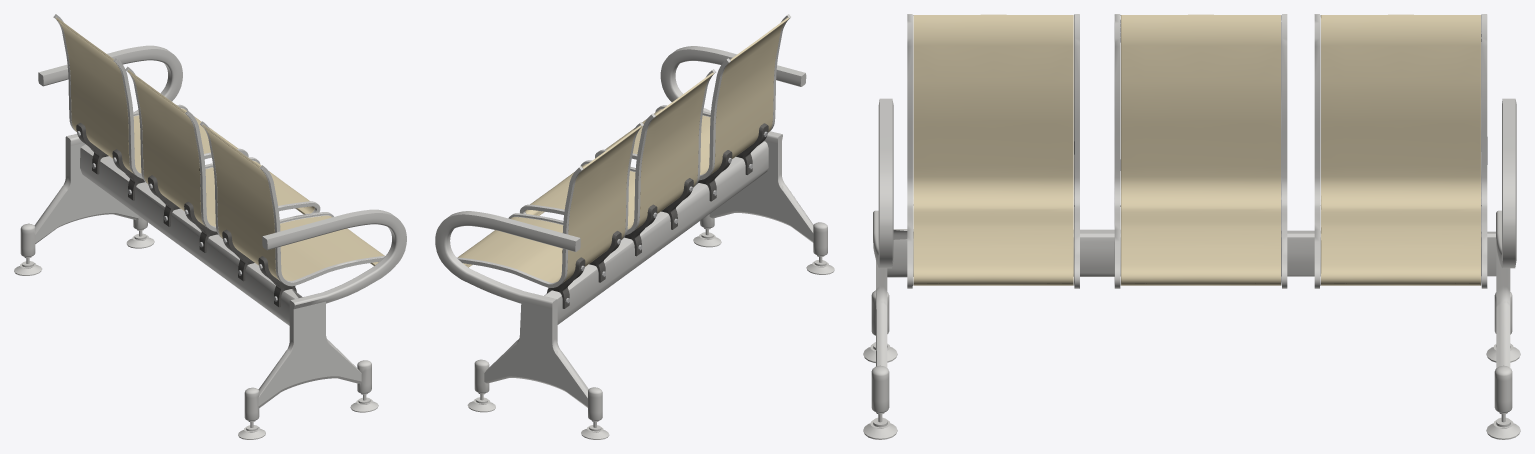
3 renders of one model, left to right at view 1: azimuth 30°, elevation 25°; view 2: azimuth 150°, elevation 25°; view 3: azimuth 270°, elevation 25°, orthographic. The views are drawn at different scales.
Visible parts, largest first — view 1: waiting chair; view 2: waiting chair; view 3: waiting chair.
Boxes of the visible parts, <box> form: waiting chair: <box>14,14,406,439</box>; waiting chair: <box>435,14,834,439</box>; waiting chair: <box>863,14,1520,439</box>.
Size of the model in its own units: 3.11 by 4.55 by 7.61.
4 materials, 3 textured.
